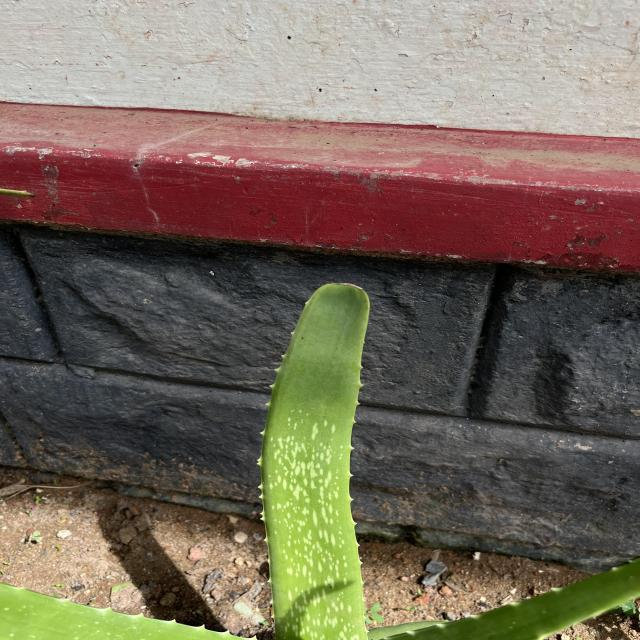Aloe vera: (252, 278, 382, 640)
